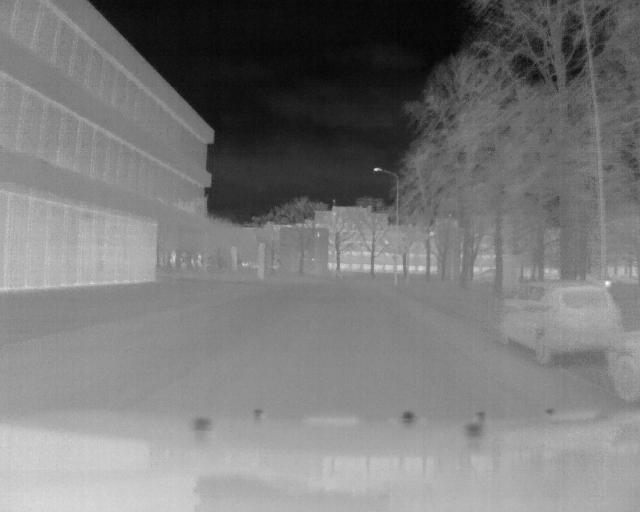car: (495, 278, 625, 363)
